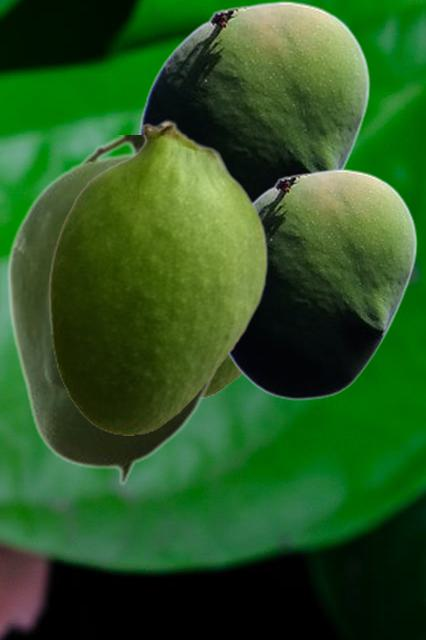green_mango: (5, 135, 220, 485), (48, 119, 267, 434), (138, 0, 370, 199), (228, 168, 417, 399), (205, 358, 243, 398)
